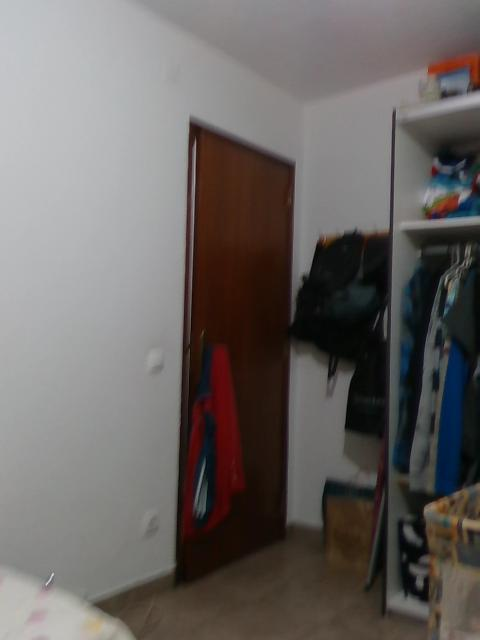door: (175, 115, 294, 591)
